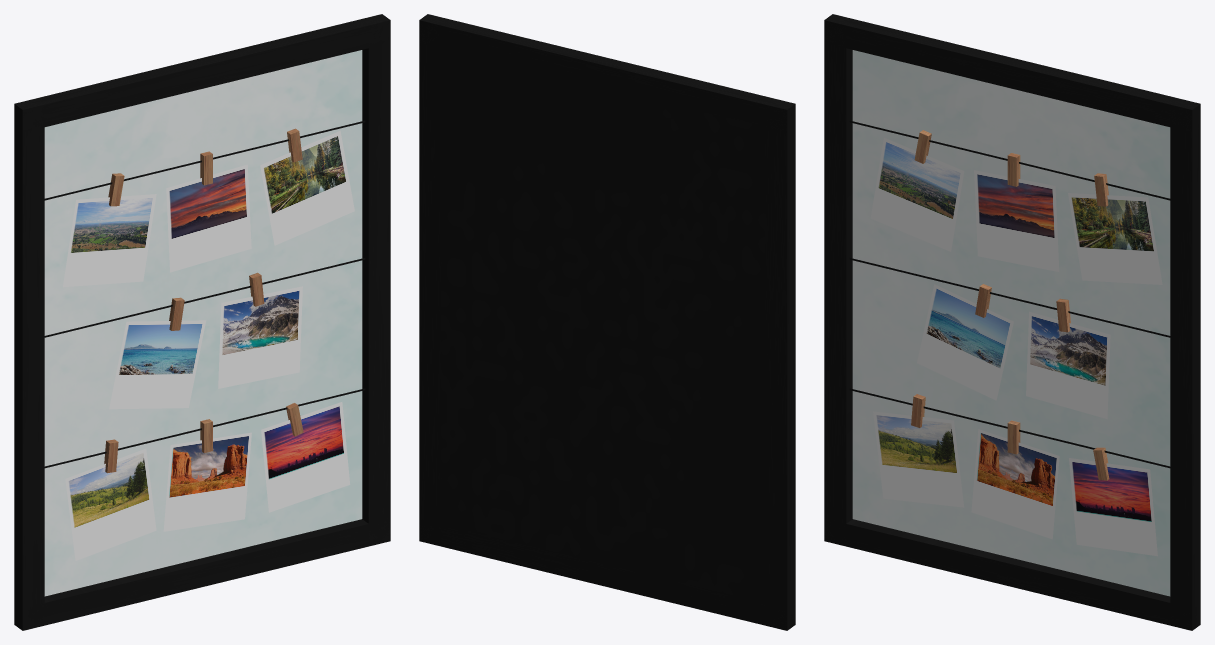
The model's file is portafoto.fbx.
3 renders of one model, left to right at view 1: azimuth 30°, elevation 25°; view 2: azimuth 150°, elevation 25°; view 3: azimuth 330°, elevation 25°, orthographic.
Visible parts, largest first — view 1: Plane.015, Plane.001, Plane, Plane.007, Plane.006, Plane.002, Plane.004, Plane.003, Plane.005; view 2: Plane.015; view 3: Plane.015, Plane.001, Plane, Plane.004, Plane.006, Plane.007, Plane.002, Plane.003, Plane.005.
Part boxes in pixels (box(x1,y1,x2,y2)): Plane.015: box(14, 14, 390, 630); Plane.001: box(166, 164, 251, 272); Plane: box(63, 194, 156, 287); Plane.007: box(109, 320, 206, 409); Plane.006: box(218, 286, 302, 388); Plane.002: box(260, 130, 354, 245); Plane.004: box(65, 448, 156, 560); Plane.003: box(163, 432, 251, 531); Plane.005: box(261, 402, 350, 512); Plane.015: box(419, 14, 795, 630); Plane.015: box(824, 14, 1200, 630); Plane.001: box(974, 170, 1059, 271); Plane: box(870, 137, 964, 251); Plane.004: box(873, 411, 964, 507); Plane.006: box(1026, 311, 1110, 419); Plane.007: box(917, 284, 1013, 400); Plane.002: box(1068, 193, 1162, 284); Plane.003: box(971, 429, 1059, 539); Plane.005: box(1069, 458, 1157, 556).
Bounding box in the file's own units: 60 × 81.18 × 2.4.
